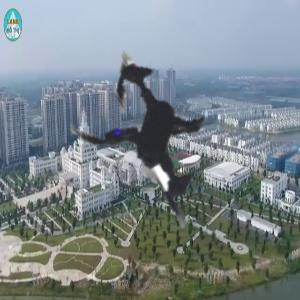drone: (5, 1, 292, 288)
